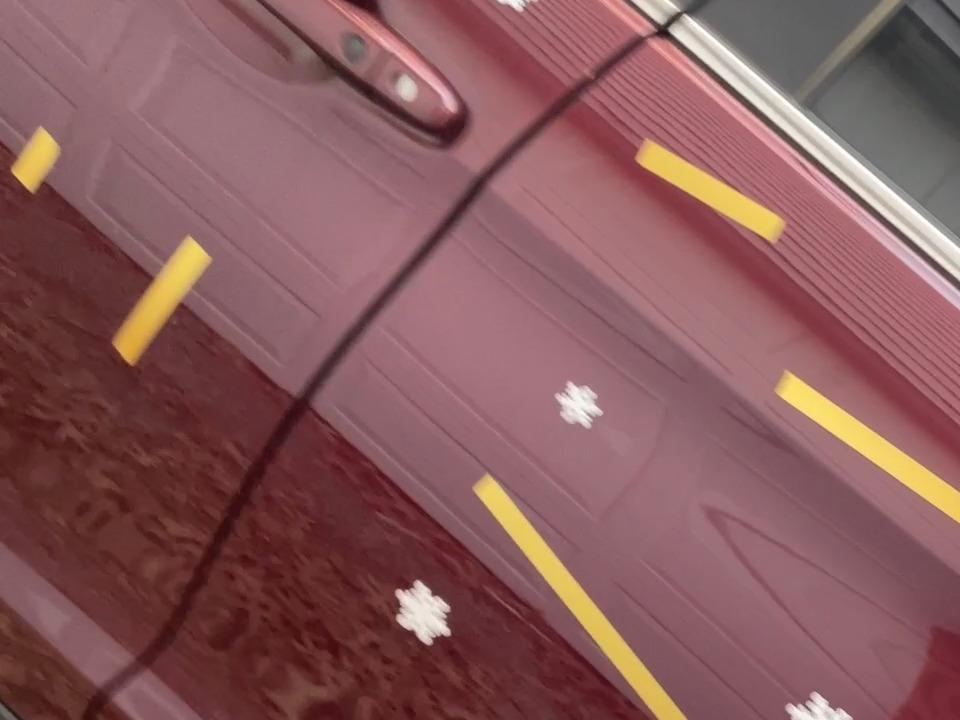dent: (385, 569, 457, 656), (547, 377, 609, 435), (776, 682, 869, 720)
scratch: (468, 462, 763, 720), (768, 358, 960, 577), (633, 127, 793, 251), (95, 225, 221, 377), (1, 119, 80, 201)
